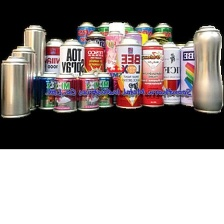aerosol_cans: (190, 22, 223, 114), (114, 34, 144, 110), (177, 35, 206, 108), (21, 23, 47, 102), (0, 53, 31, 119), (137, 38, 165, 109), (56, 35, 87, 98), (156, 39, 182, 106), (41, 36, 67, 103), (79, 37, 107, 96), (150, 19, 174, 86), (103, 29, 126, 90), (75, 18, 96, 84), (133, 19, 153, 83), (51, 70, 79, 114), (89, 69, 116, 110), (36, 69, 61, 111), (76, 71, 101, 111)
